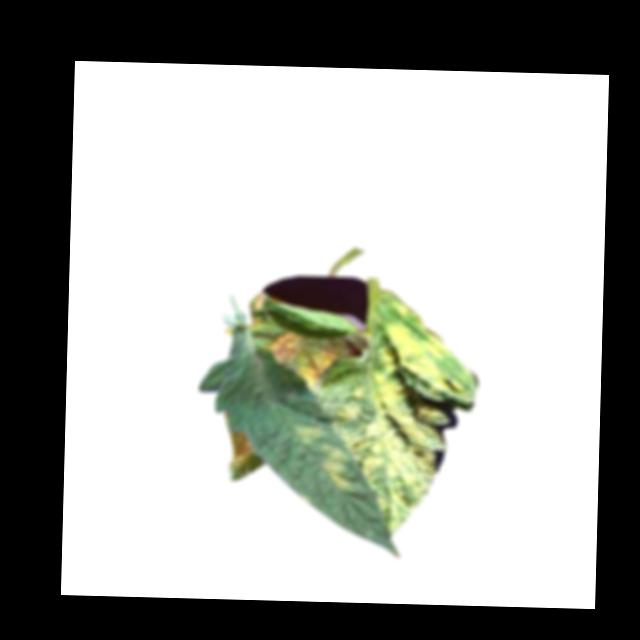Leaf_Mold: (337, 285, 477, 534), (268, 328, 362, 389), (323, 450, 352, 495), (287, 423, 335, 446), (228, 431, 256, 468)
